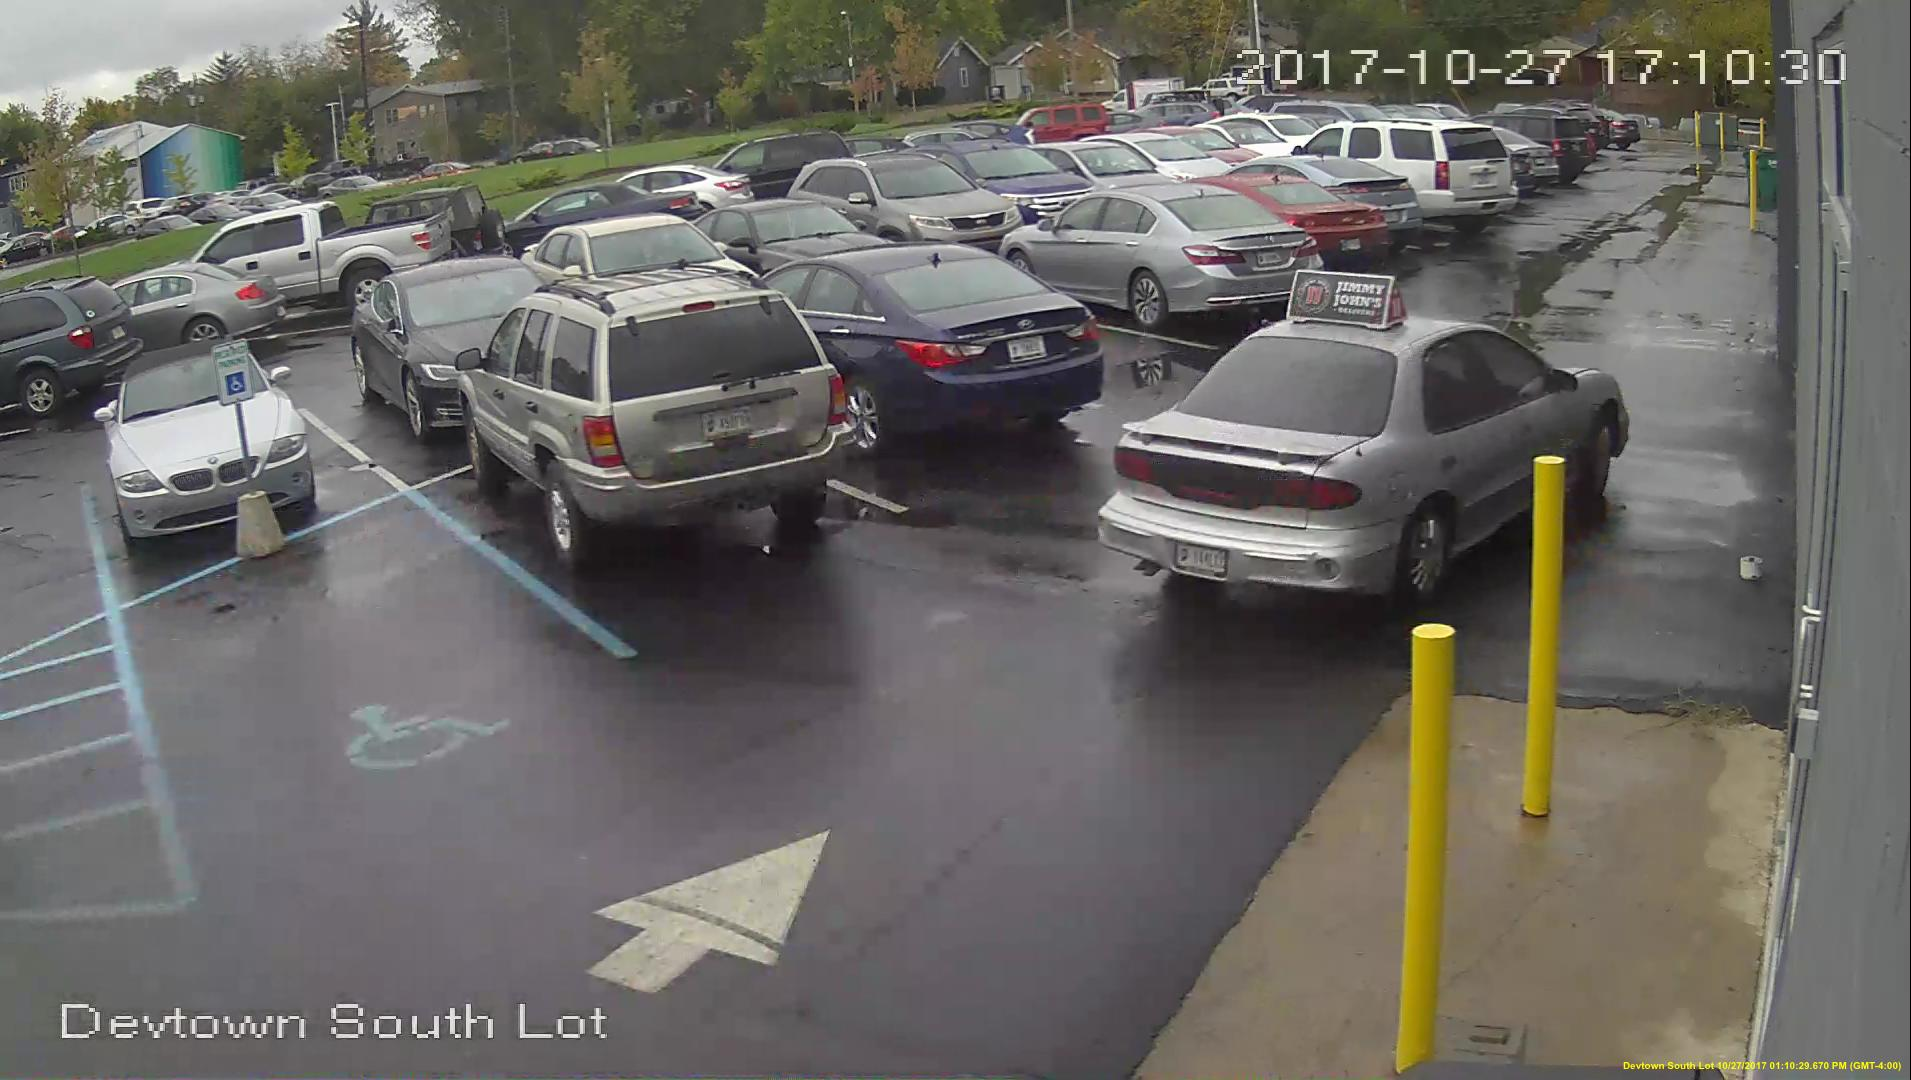jimmy_johns: (1288, 268, 1410, 332)
